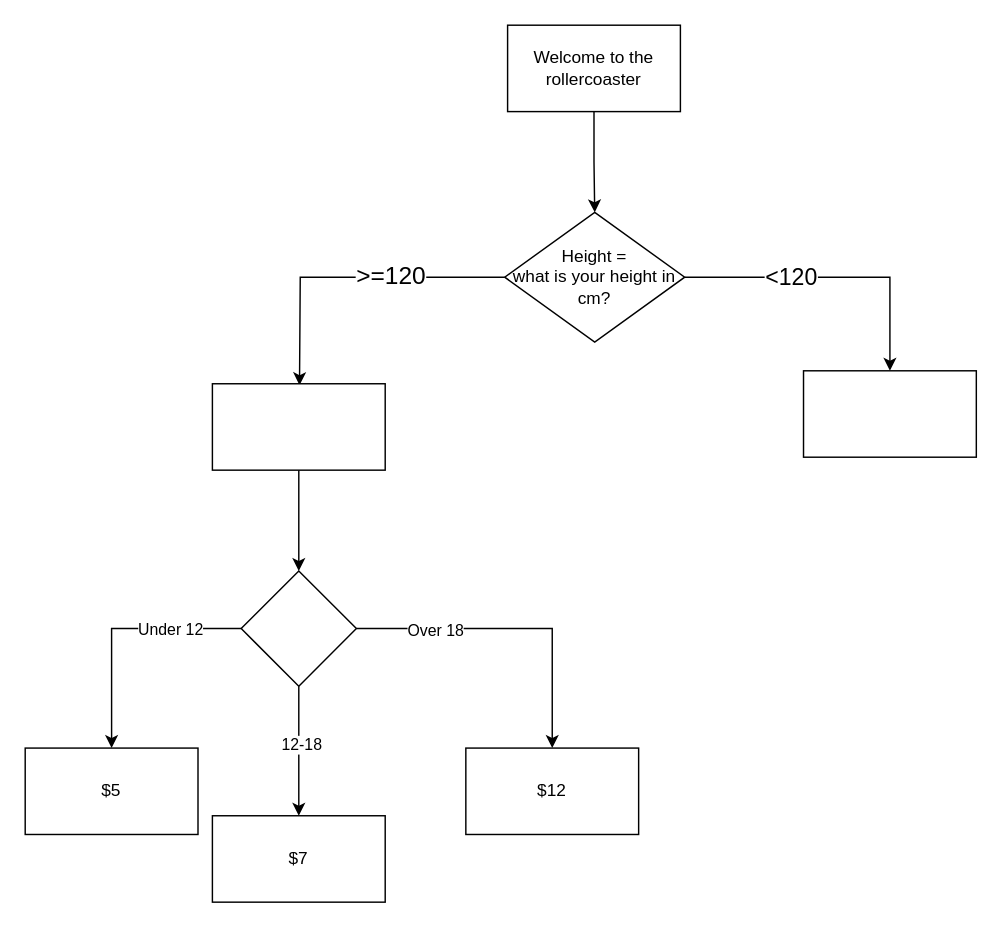
This 1002x927 diagram has some shape labels left out. Here are the shapes that lost their labels. From the top down, the box of each, then its label:
(211, 382, 385, 470): You can ride the rollercoaster
(802, 369, 976, 457): Sorry, you have to grow taller before you can ride.
(240, 570, 356, 686): age
